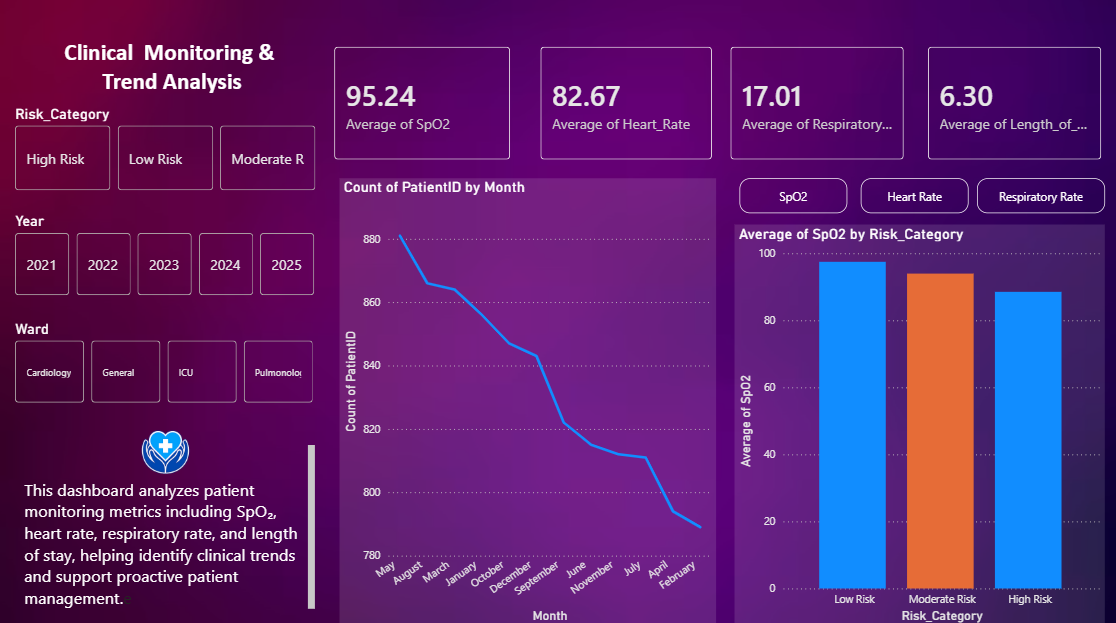

What the dashboard file says about the page in this screenshot:
{"tool":"powerbi","page":{"name":"Duplicate of Page 1","canvas":[1280,720],"ordinal":1},"visuals":[{"type":"cardVisual","fields":{"Data":["Avg(PatientData.SpO2)"]},"box":[368.9,39.5,235.9,163.2],"z":0},{"type":"cardVisual","fields":{"Data":["Avg(PatientData.Heart_Rate)"]},"box":[604.9,40.5,230.7,163.2],"z":1000},{"type":"cardVisual","fields":{"Data":["Avg(PatientData.Length_of_Stay)"]},"box":[1047.6,39.5,232.8,163.2],"z":2000},{"type":"cardVisual","fields":{"Data":["Avg(PatientData.Respiratory_Rate)"]},"box":[821,40.5,232.8,163.2],"z":3000},{"type":"advancedSlicerVisual","fields":{"Values":["PatientData.Year"]},"box":[15.6,246.3,353.4,100.8],"z":4000},{"type":"advancedSlicerVisual","fields":{"Values":["PatientData.Ward"]},"box":[15.6,368.9,353.4,100.8],"z":5000},{"type":"advancedSlicerVisual","fields":{"Values":["PatientData.Risk_Category"]},"box":[15.6,122.6,353.4,103.9],"z":6000},{"type":"textbox","box":[25.7,500,342.9,204.3],"z":7000},{"type":"textbox","box":[25.7,41.4,342.9,81.4],"z":8000},{"type":"image","box":[88.6,431.4,208.6,197.1],"z":9000},{"type":"lineChart","fields":{"Y":["CountNonNull(PatientData.PatientID)"],"Category":["PatientData.Month"]},"box":[391.7,206.7,430,513.3],"z":10000},{"type":"clusteredColumnChart","fields":{"Category":["PatientData.Risk_Category"],"Y":["Avg(PatientData.SpO2)"]},"box":[843.3,260,423.3,460],"z":13000},{"type":"actionButton","box":[848.3,206.7,123.3,40],"z":14000},{"type":"actionButton","box":[986.7,206.7,123.3,40],"z":15000},{"type":"actionButton","box":[1120,206.7,146.7,40],"z":16000}]}

Visuals, with their boxes in screenshot pixels (x1, y1, x2, y2), scaled from the page's 1280x720 canvas onto the 1116x623 screenshot:
cardVisual - Avg(PatientData.SpO2): (322,34,527,175)
cardVisual - Avg(PatientData.Heart_Rate): (527,35,729,176)
cardVisual - Avg(PatientData.Length_of_Stay): (913,34,1115,175)
cardVisual - Avg(PatientData.Respiratory_Rate): (716,35,919,176)
advancedSlicerVisual - PatientData.Year: (14,213,322,300)
advancedSlicerVisual - PatientData.Ward: (14,319,322,406)
advancedSlicerVisual - PatientData.Risk_Category: (14,106,322,196)
textbox: (22,433,321,609)
textbox: (22,36,321,106)
image: (77,373,259,544)
lineChart - CountNonNull(PatientData.PatientID) x PatientData.Month: (342,179,716,622)
clusteredColumnChart - PatientData.Risk_Category x Avg(PatientData.SpO2): (735,225,1104,622)
actionButton: (740,179,847,213)
actionButton: (860,179,968,213)
actionButton: (976,179,1104,213)
